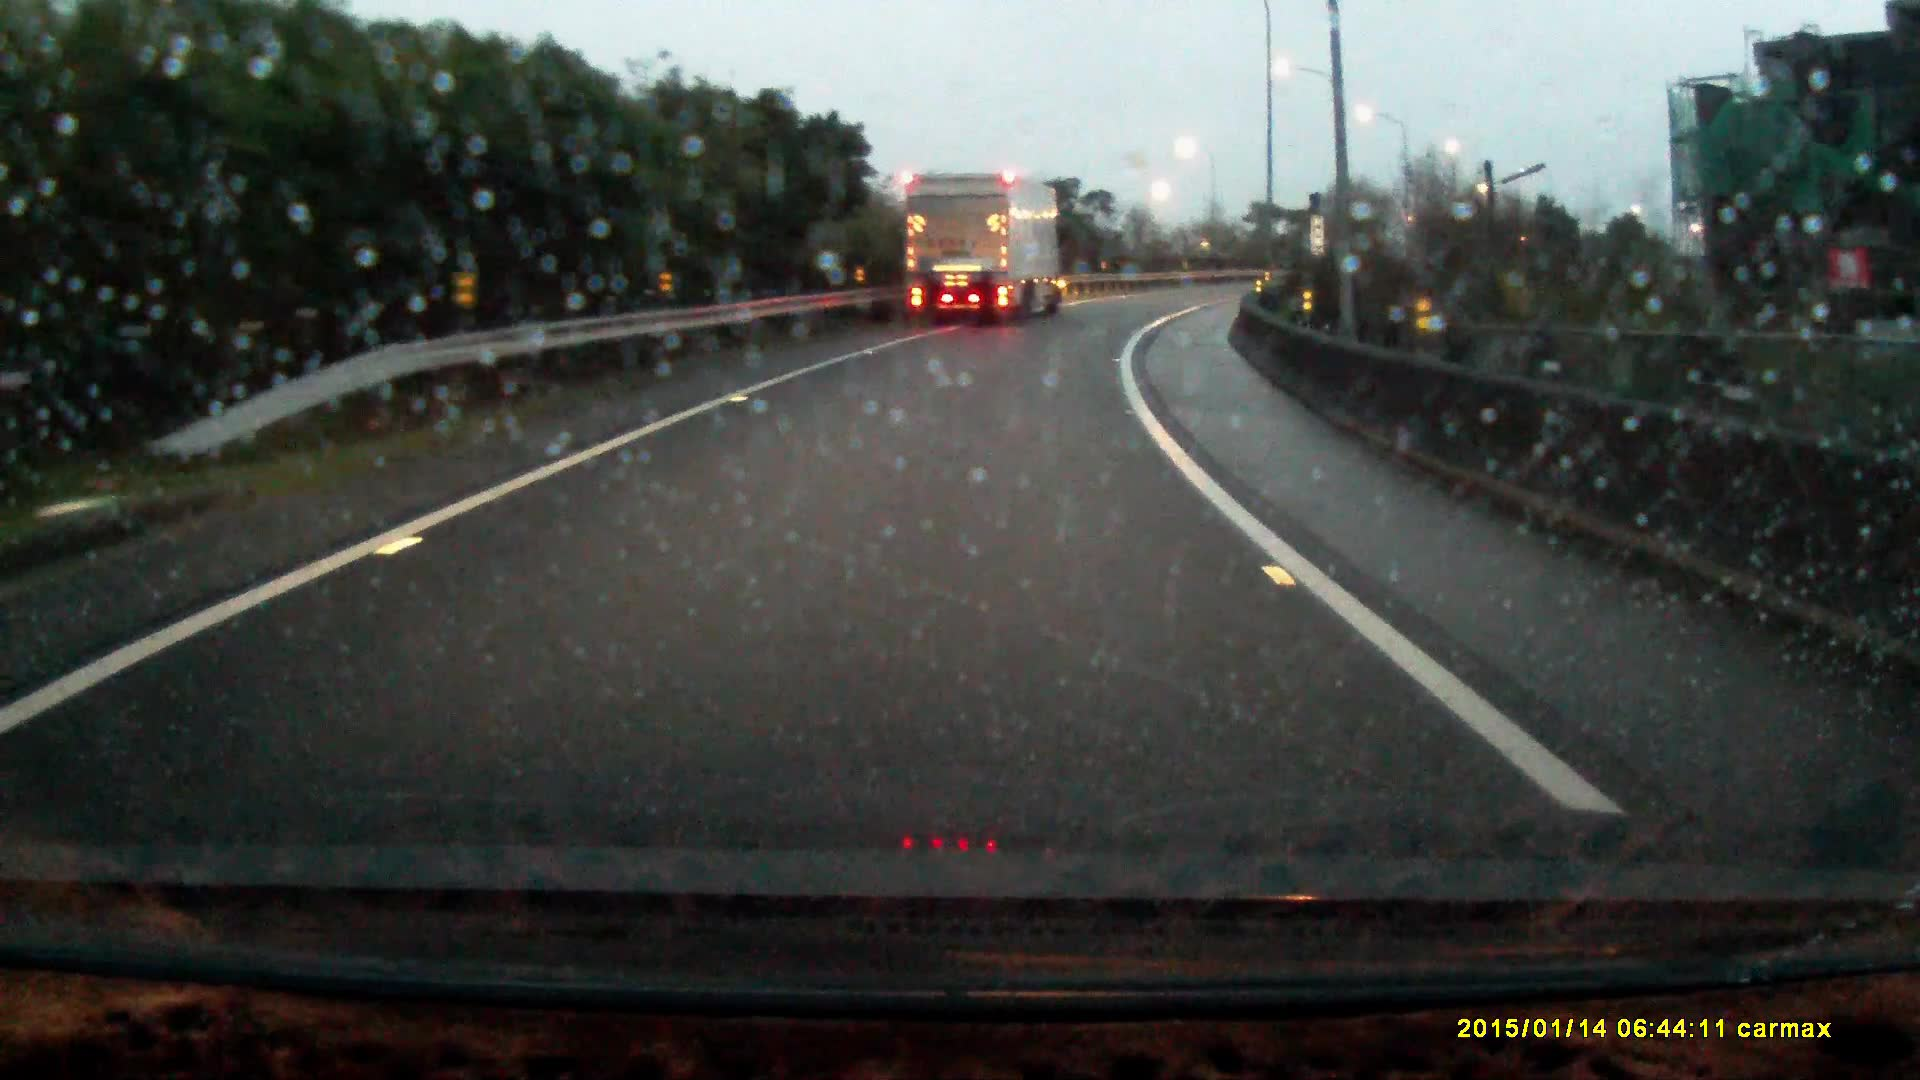vehicle: (902, 171, 1062, 324)
